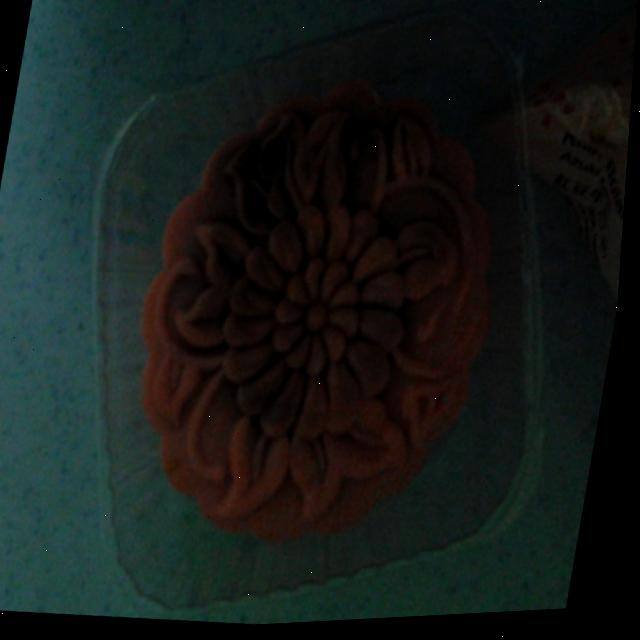蛋糕甜品: (80, 59, 538, 563)
